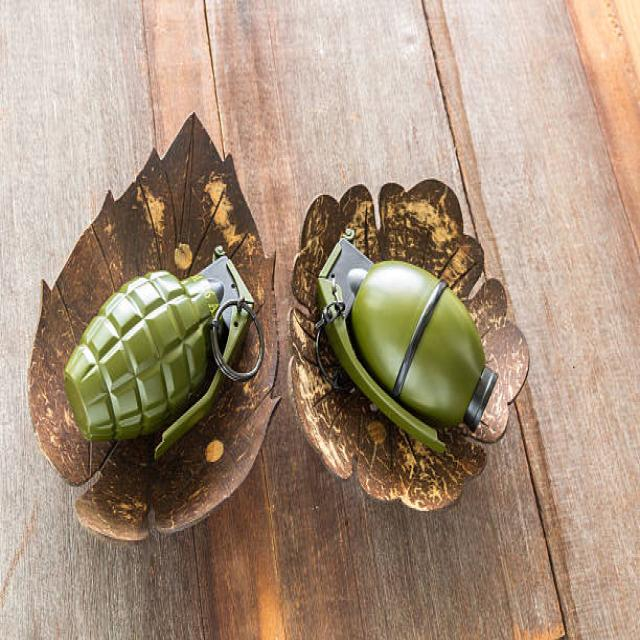grenade: (312, 221, 502, 464), (57, 249, 270, 464)
